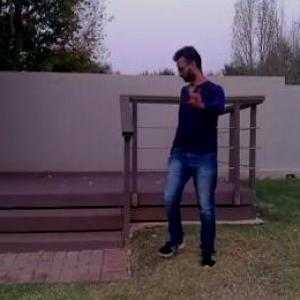takeoff-hand: (185, 77, 211, 110)
